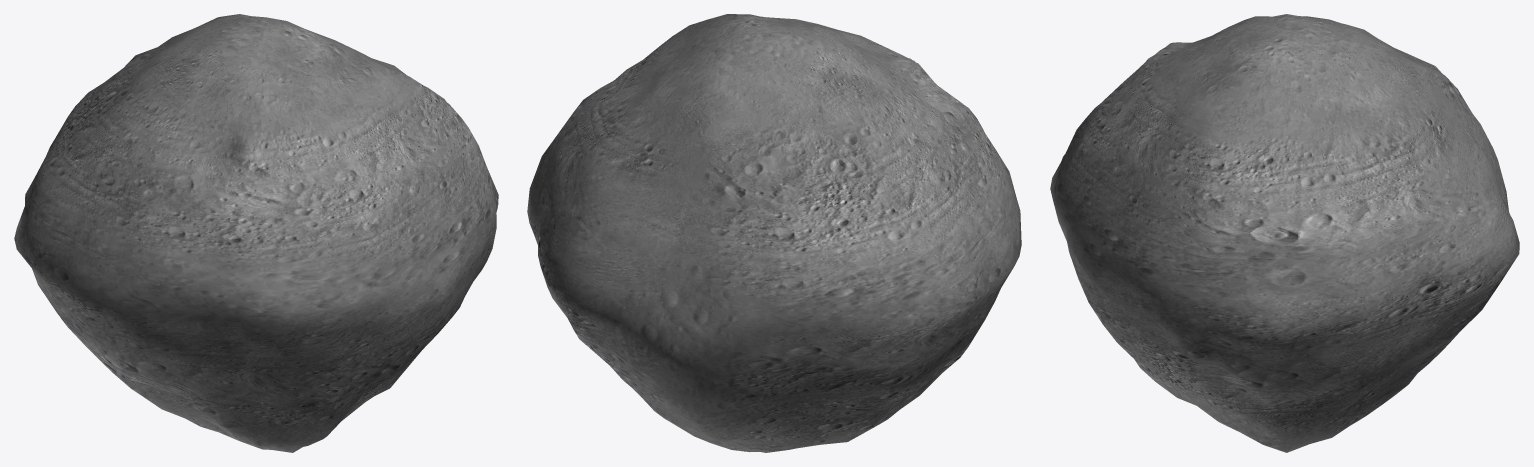
Rendered from bennu.glb.
3 renders of one model, left to right at view 1: azimuth 30°, elevation 25°; view 2: azimuth 150°, elevation 25°; view 3: azimuth 270°, elevation 25°, orthographic. The views are drawn at different scales.
Parts seen in each view (by area): view 1: bennu; view 2: bennu; view 3: bennu.
Part boxes in pixels (bbox=[...]): bennu: bbox=[14, 14, 498, 452]; bennu: bbox=[527, 14, 1021, 452]; bennu: bbox=[1050, 14, 1519, 452].
Bounding box in the file's own units: 565 × 508 × 535.
Materials: 1 (1 with a texture image).
